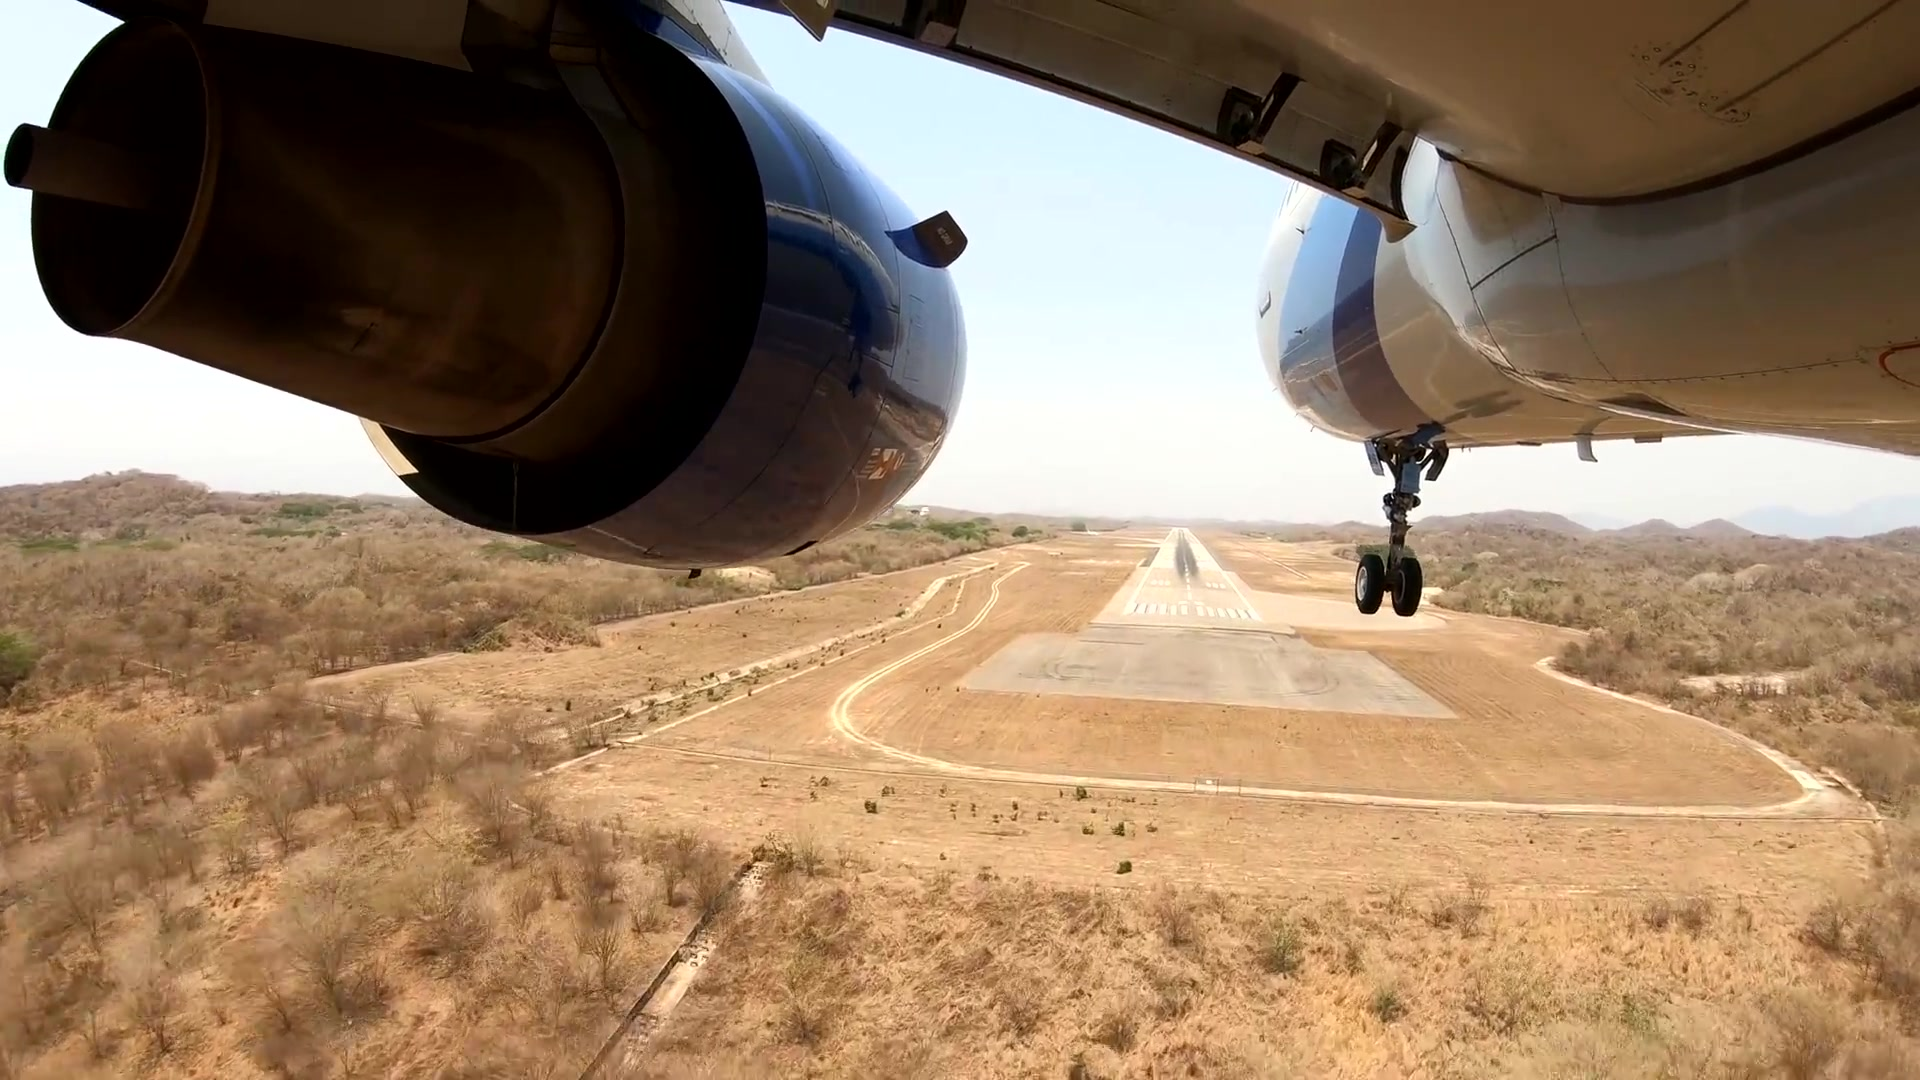entrance: (1125, 600, 1255, 621)
runway: (1121, 524, 1265, 626)
